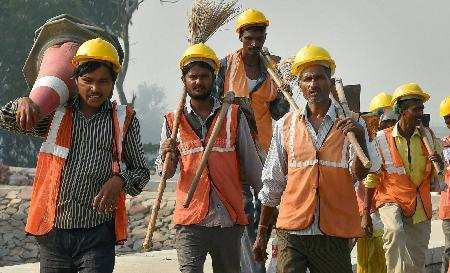SAFE: (31, 39, 123, 230), (281, 42, 350, 224), (175, 42, 233, 224), (378, 82, 432, 214)
